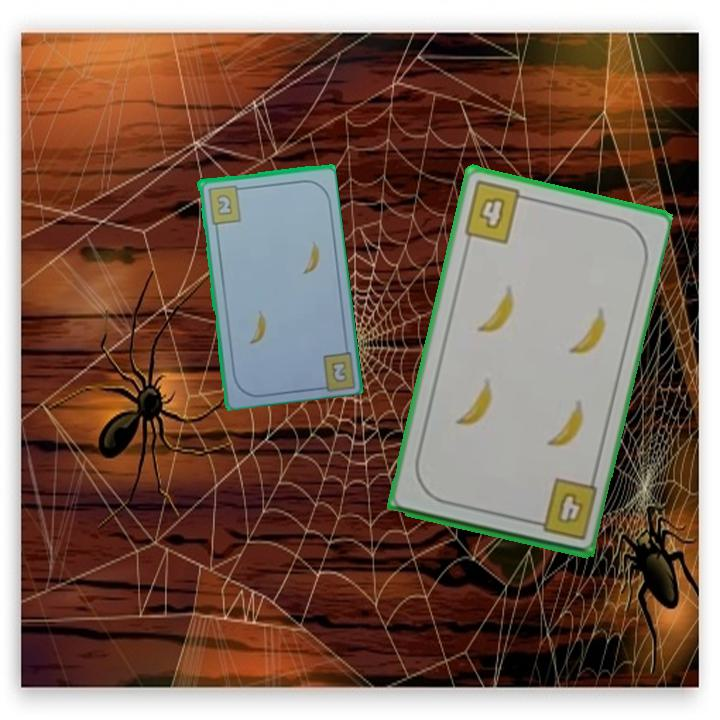2b: (204, 181, 246, 226), (327, 357, 350, 386)
4b: (460, 177, 533, 247), (526, 475, 600, 543)
